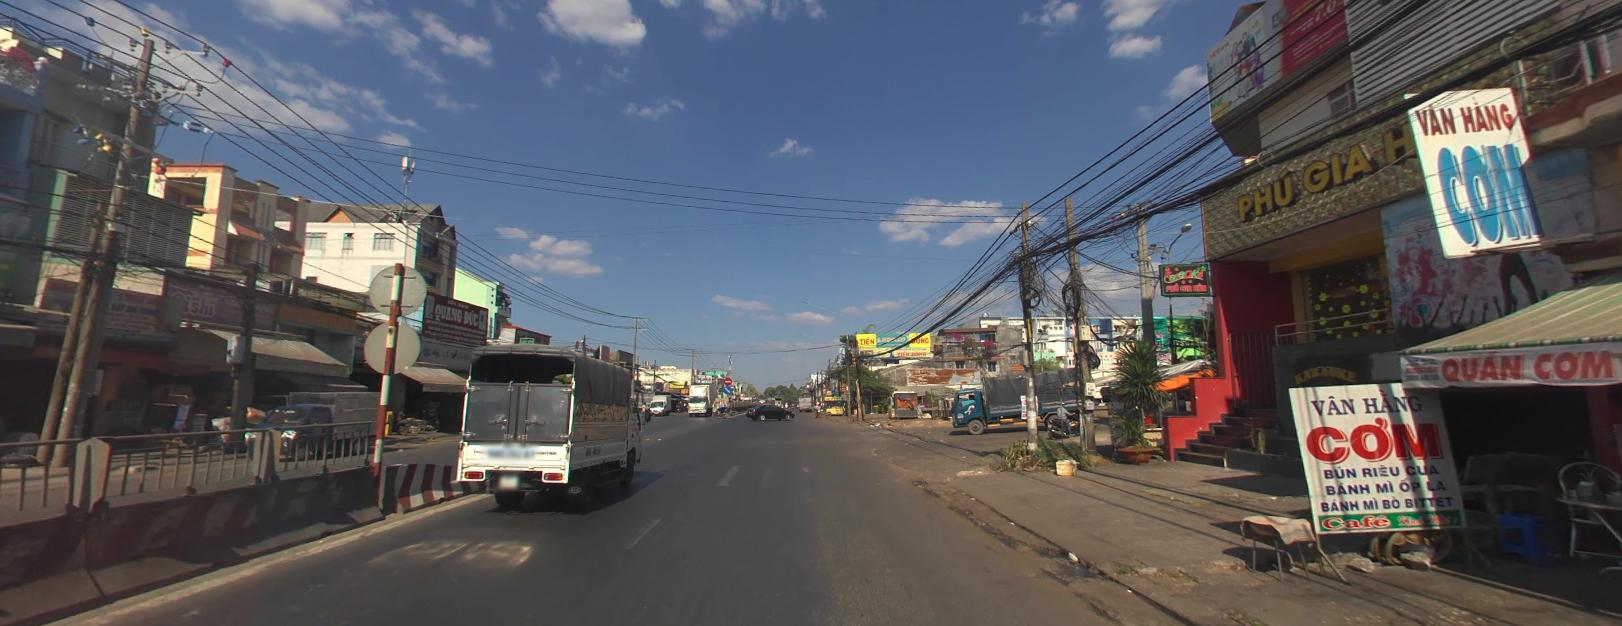Cam nguoc chieu: (723, 375, 731, 383)
Hieu lenh: (723, 384, 732, 392)
